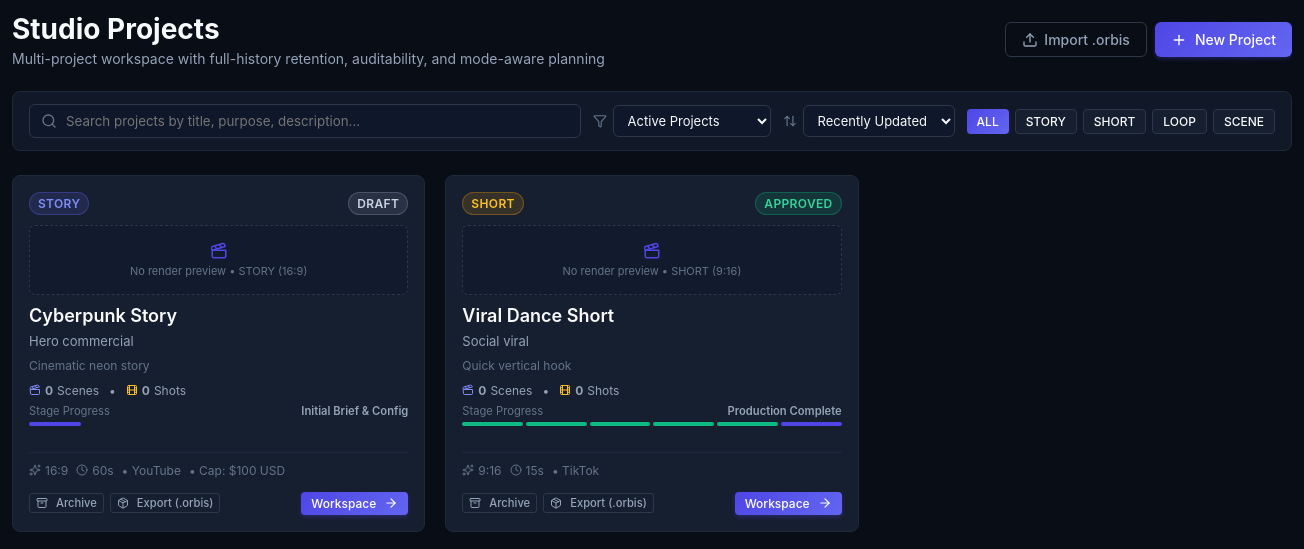
Scenario: ProjectDashboard › filters projects by search term
Type "Cyberpunk" into the field with test id "project-search-input". click: (305, 121)
box: [29,104,581,138]
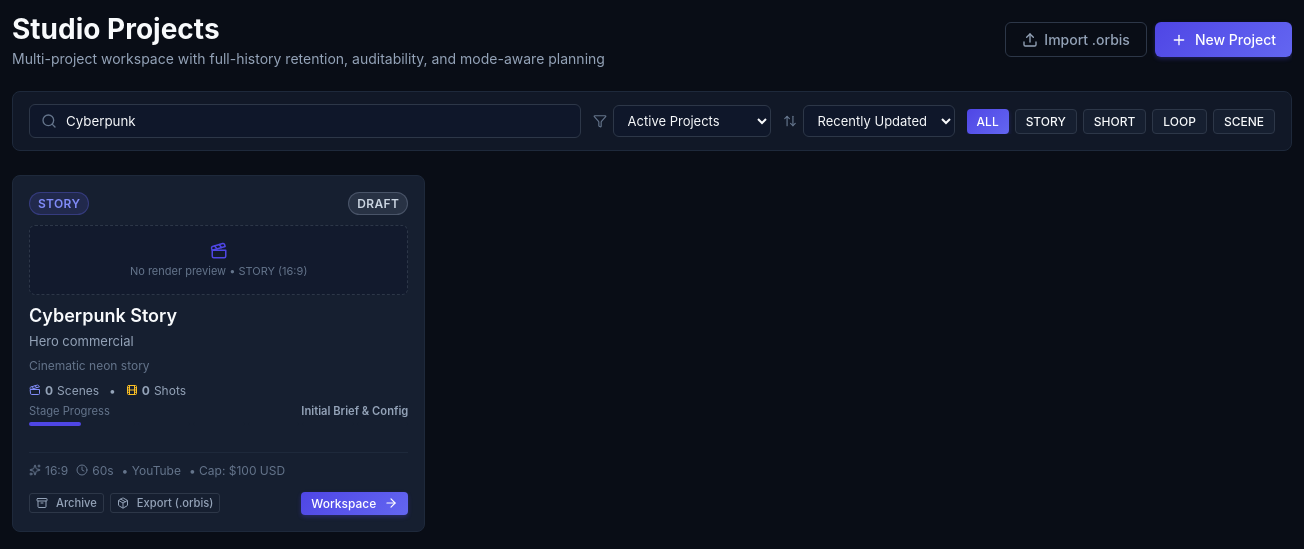
Expected: the heading "Cyberpunk Story" is shown, [29,305,177,326]
Expected: the heading "Viral Dance Short" is gone
